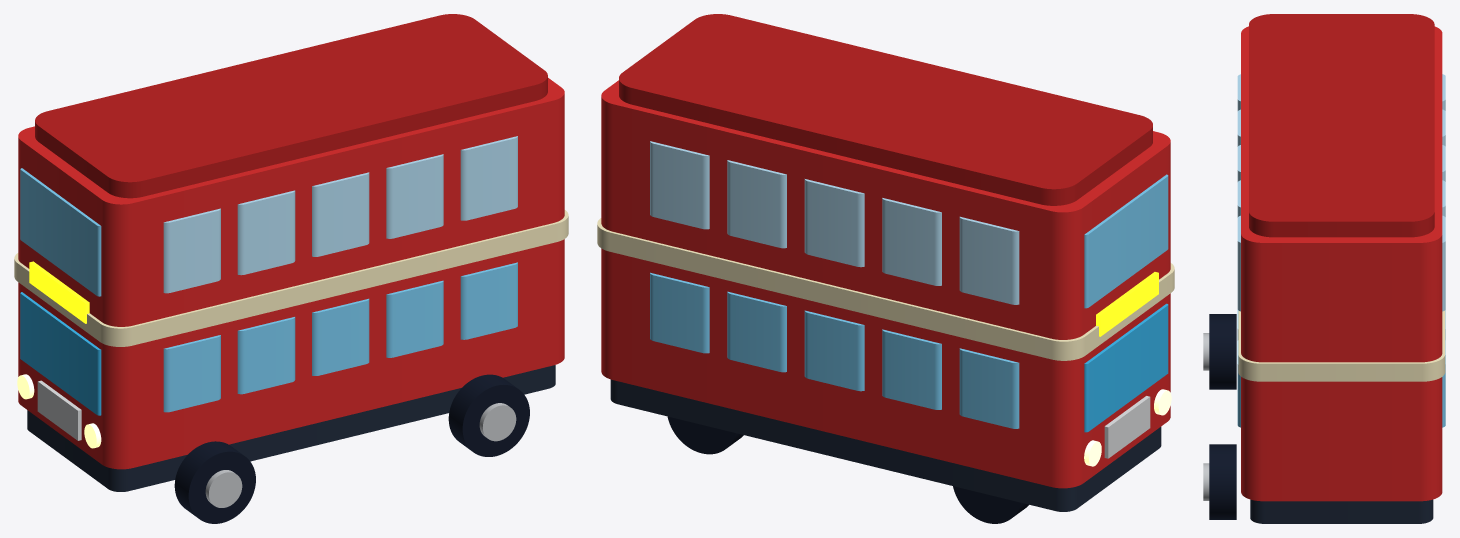
File: double_decker.glb
3 views of the same model, side by side, from view 1: azimuth 30°, elevation 25°; view 2: azimuth 150°, elevation 25°; view 3: azimuth 270°, elevation 25° (orthographic). The views are drawn at different scales.
Parts seen in each view (by area): view 1: bus_body, bus_roof, bus_belt, chassis, front_up_w, front_low_w, wu_1, wu_0, wu_4, wu_3, wu_2, bus_w_0_1 (+10 smaller); view 2: bus_body, bus_roof, chassis, bus_belt, front_up_w, front_low_w, wu_0, wu_2, wu_4, wu_3, wu_1, wl_2 (+8 smaller); view 3: bus_body, bus_roof, bus_belt, chassis, bus_w_0_0, bus_w_0_1, wu_4, wl_4.
Boxes of the visible parts, left/top/right/bottom form: bus_body: left=18, top=78, right=564, bottom=469; bus_roof: left=35, top=14, right=547, bottom=198; bus_belt: left=14, top=210, right=568, bottom=346; chassis: left=27, top=365, right=555, bottom=491; front_up_w: left=20, top=168, right=101, bottom=296; front_low_w: left=20, top=292, right=101, bottom=415; wu_1: left=237, top=190, right=295, bottom=275; wu_0: left=163, top=208, right=220, bottom=293; wu_4: left=460, top=136, right=517, bottom=220; wu_3: left=386, top=154, right=443, bottom=238; wu_2: left=312, top=172, right=369, bottom=256; bus_w_0_1: left=448, top=374, right=529, bottom=456; bus_body: left=601, top=80, right=1170, bottom=488; bus_roof: left=619, top=14, right=1152, bottom=205; chassis: left=610, top=379, right=1161, bottom=511; bus_belt: left=597, top=218, right=1174, bottom=360; front_up_w: left=1084, top=174, right=1168, bottom=308; front_low_w: left=1084, top=303, right=1168, bottom=432; wu_0: left=959, top=216, right=1019, bottom=304; wu_2: left=804, top=179, right=864, bottom=267; wu_4: left=650, top=141, right=709, bottom=229; wu_3: left=727, top=160, right=786, bottom=248; wu_1: left=882, top=198, right=941, bottom=285; wl_2: left=804, top=310, right=864, bottom=391; bus_body: left=1241, top=26, right=1442, bottom=501; bus_roof: left=1249, top=14, right=1434, bottom=237; bus_belt: left=1238, top=310, right=1445, bottom=381; chassis: left=1250, top=499, right=1433, bottom=523; bus_w_0_0: left=1209, top=314, right=1236, bottom=389; bus_w_0_1: left=1209, top=444, right=1236, bottom=519; wu_4: left=1237, top=215, right=1445, bottom=311; wl_4: left=1237, top=340, right=1445, bottom=427.
Size of the model in its own units: 1.01 by 0.7035 by 0.464.
